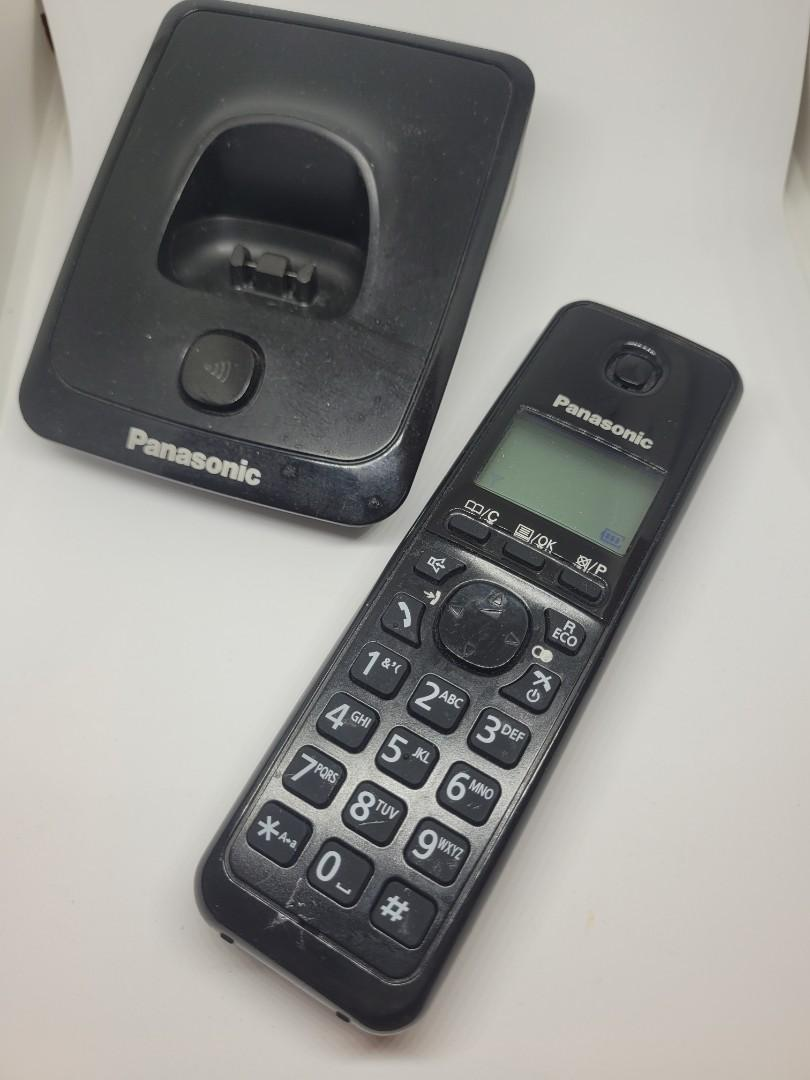telephone: (195, 301, 746, 1044)
